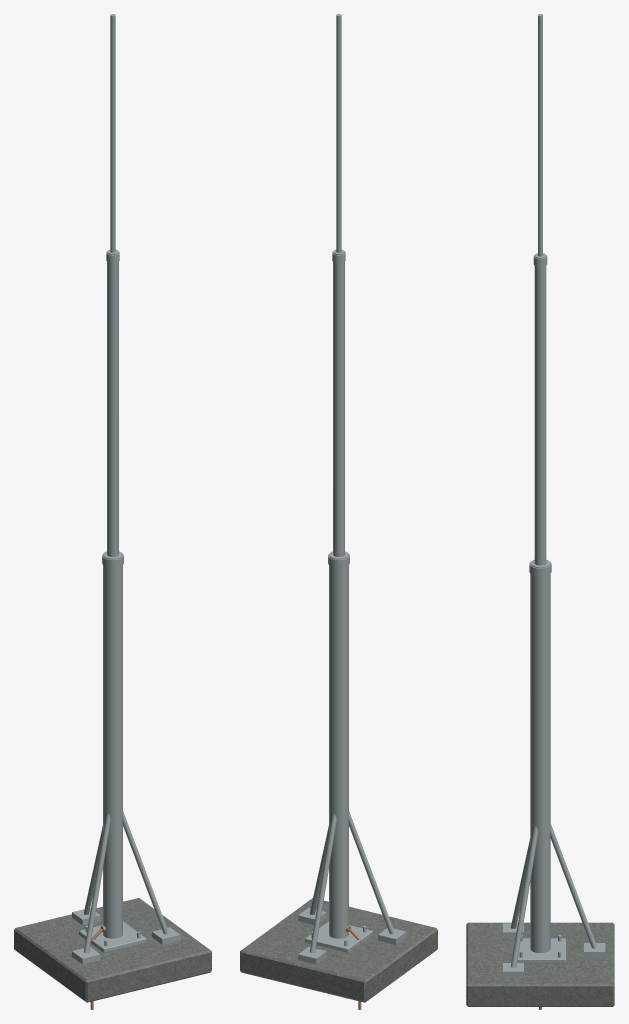
The model's file is mine-air-terminal.glb.
The picture shows the model from 3 angles, left to right: view 1: azimuth 30°, elevation 25°; view 2: azimuth 150°, elevation 25°; view 3: azimuth 270°, elevation 25°; orthographic projection.
Visible parts, largest first — view 1: air-terminal__main__Protection_metal, air-terminal__main__Protection_concrete; view 2: air-terminal__main__Protection_metal, air-terminal__main__Protection_concrete; view 3: air-terminal__main__Protection_metal, air-terminal__main__Protection_concrete.
Part boxes in pixels (x1,y1,x2,y2): air-terminal__main__Protection_metal: [72, 14, 180, 964]; air-terminal__main__Protection_concrete: [14, 898, 211, 1002]; air-terminal__main__Protection_metal: [298, 14, 406, 964]; air-terminal__main__Protection_concrete: [240, 898, 437, 1002]; air-terminal__main__Protection_metal: [503, 14, 605, 977]; air-terminal__main__Protection_concrete: [466, 922, 614, 1006].
Bounding box in the file's own units: 1.4 × 10.45 × 1.4.
Materials: 3 (1 with a texture image).
